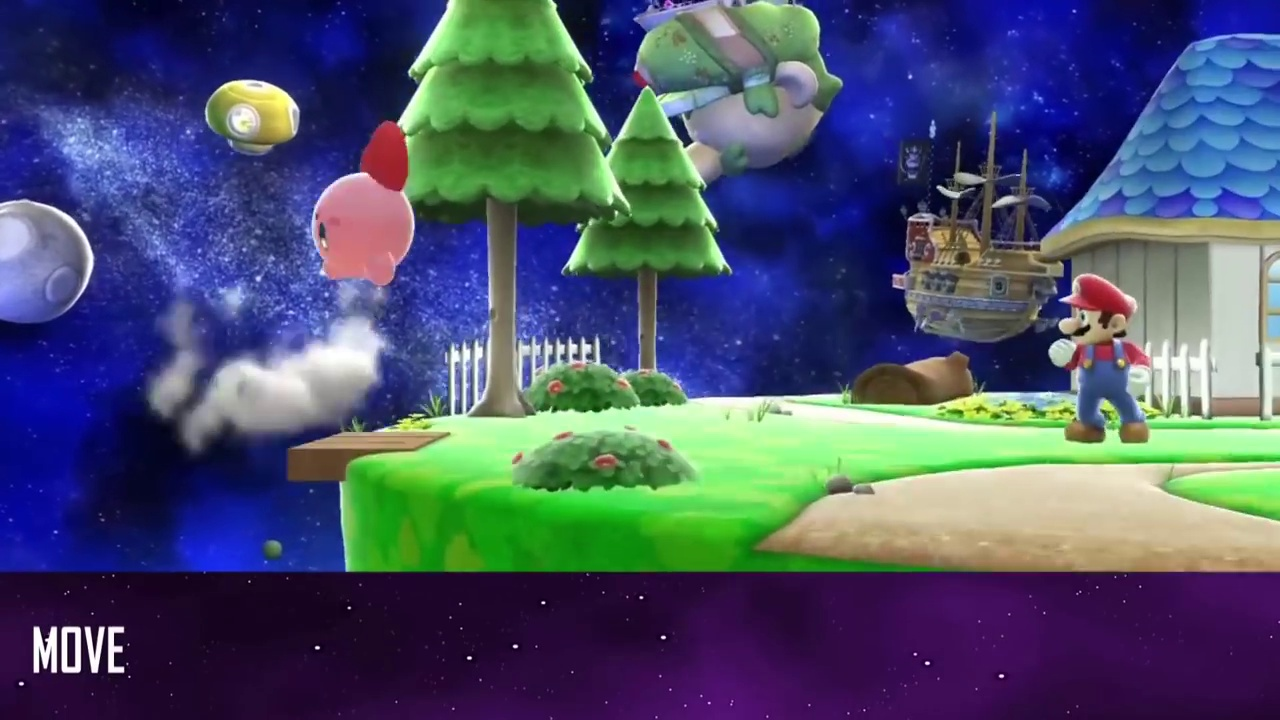Mario: (1042, 275, 1150, 444)
